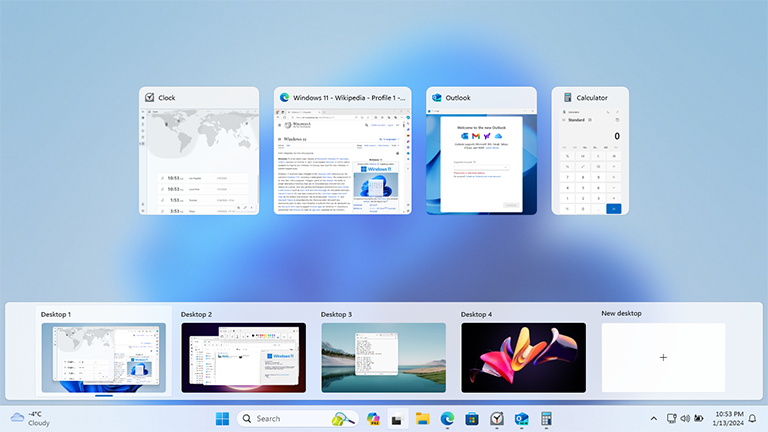search_box: (237, 409, 361, 428)
start_bar: (214, 410, 231, 428)
